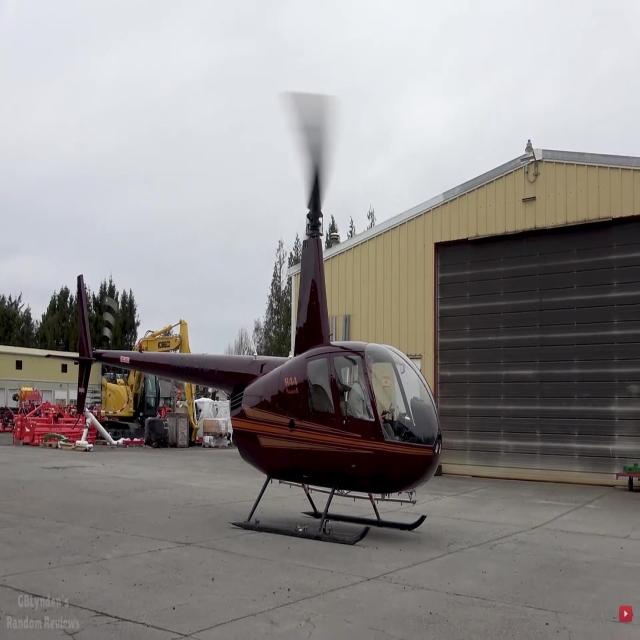CIV_HELO: (41, 197, 445, 553)
